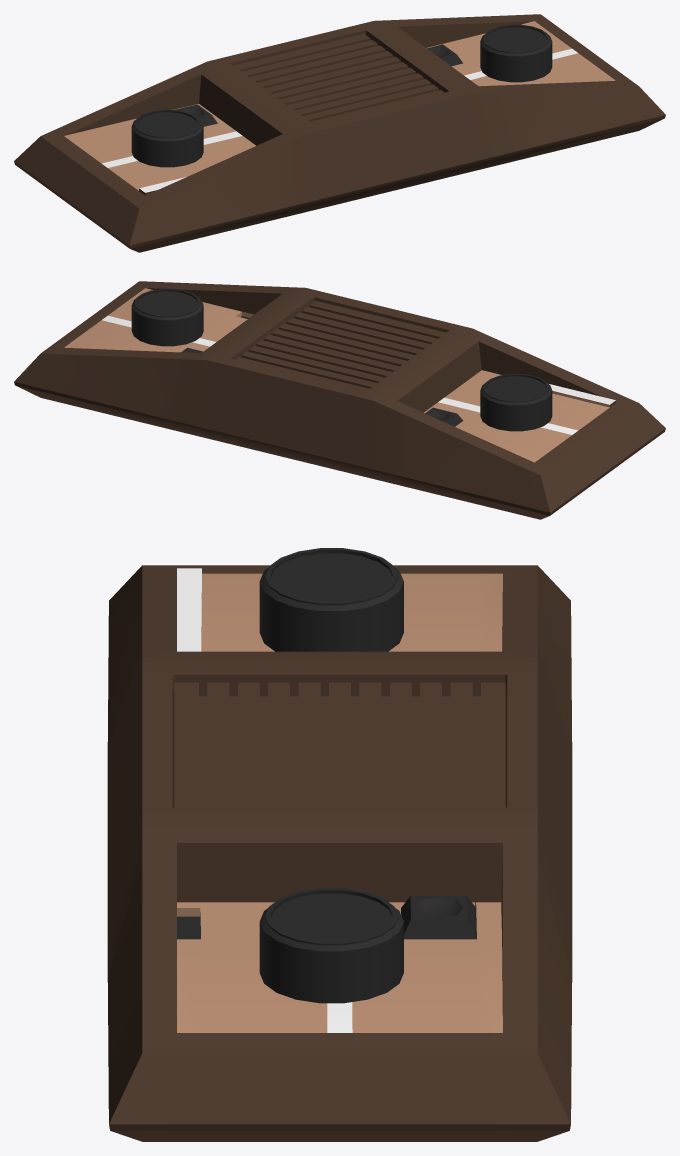
File: ColekoTelestar.fbx
The picture shows the model from 3 angles, top to bottom: view 1: azimuth 30°, elevation 25°; view 2: azimuth 150°, elevation 25°; view 3: azimuth 270°, elevation 25°; orthographic projection. The views are drawn at different scales.
Visible parts, largest first — view 1: ColekoTelestar; view 2: ColekoTelestar; view 3: ColekoTelestar.
Boxes of the visible parts, <box> form: ColekoTelestar: <box>14,14,665,252</box>; ColekoTelestar: <box>14,281,665,519</box>; ColekoTelestar: <box>107,548,572,1141</box>.
Bounding box in the file's own units: 86.2 × 12.02 × 32.32.
